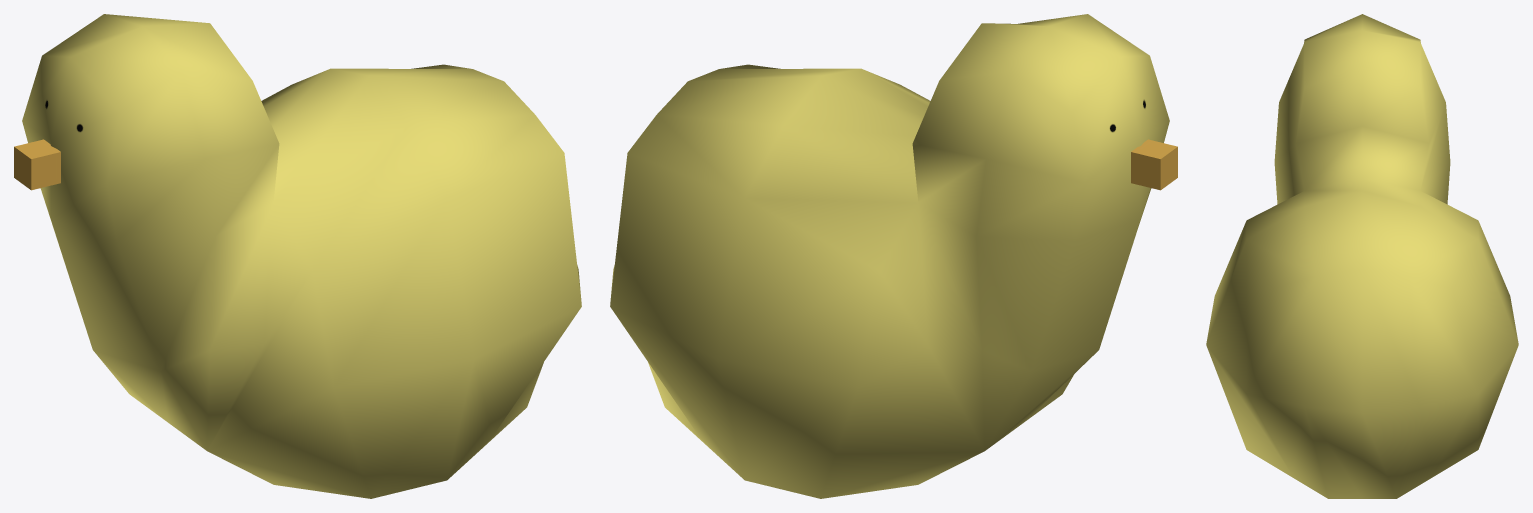
File: ChickModele01.fbx
The picture shows the model from 3 angles, left to right: view 1: azimuth 30°, elevation 25°; view 2: azimuth 150°, elevation 25°; view 3: azimuth 270°, elevation 25°; orthographic projection. The views are drawn at different scales.
Visible parts, largest first — view 1: Chick; view 2: Chick; view 3: Chick.
Boxes of the visible parts, left/top/right/bottom form: Chick: left=14, top=14, right=581, bottom=498; Chick: left=610, top=14, right=1177, bottom=498; Chick: left=1206, top=14, right=1518, bottom=498.
Size of the model in its own units: 3.47 by 2.81 by 2.36.
